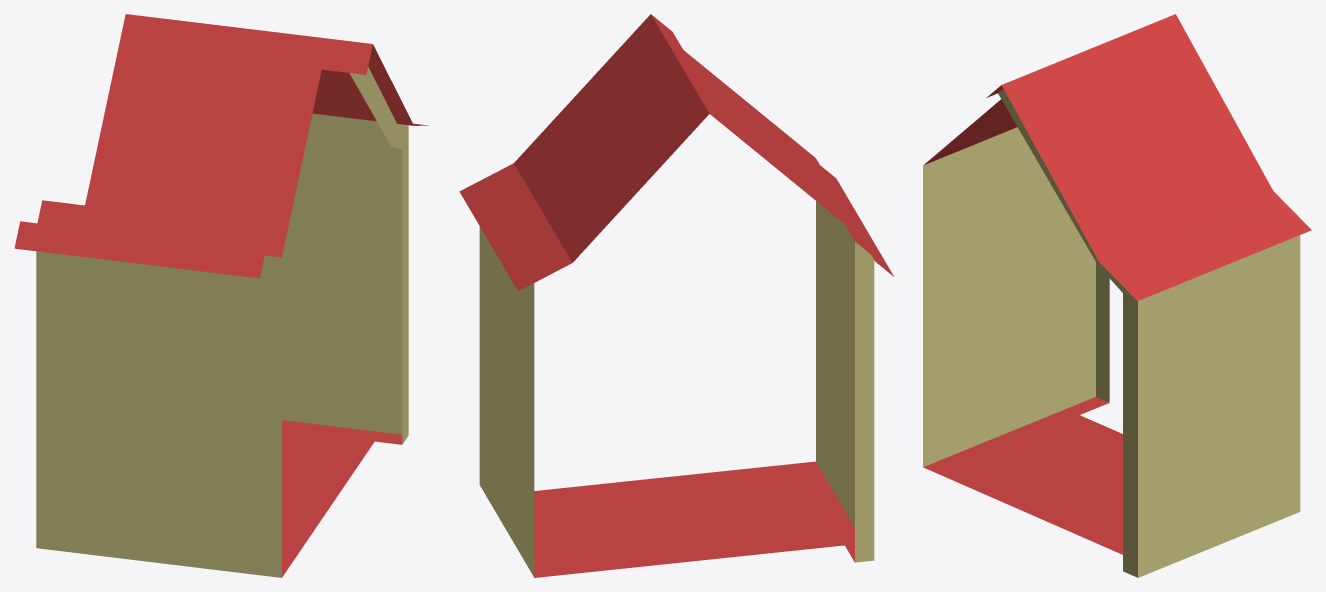
3 views of the same model, side by side, from view 1: azimuth 30°, elevation 25°; view 2: azimuth 150°, elevation 25°; view 3: azimuth 270°, elevation 25° (orthographic). The views are drawn at different scales.
Size of the model in its own units: 14.24 by 11.64 by 14.63.
